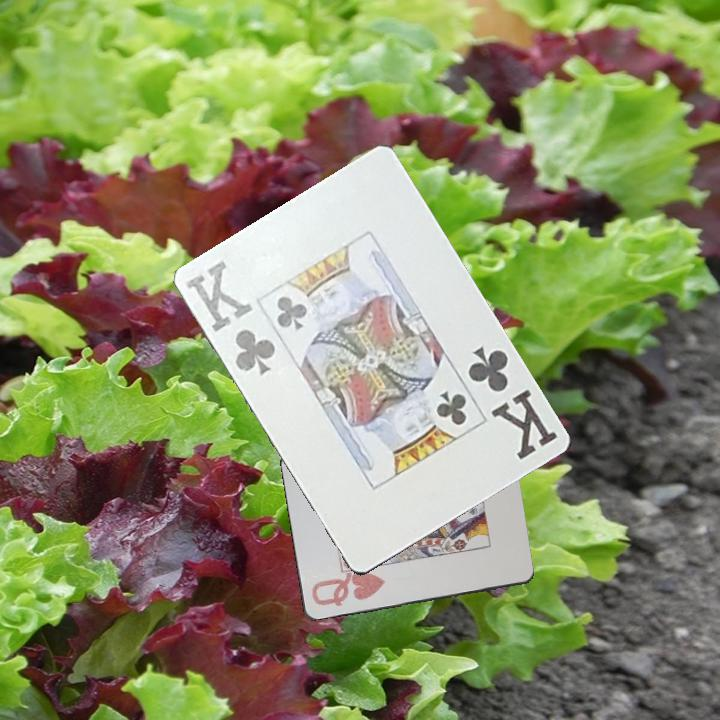Kc: (183, 257, 280, 380), (464, 342, 561, 463)
Qh: (308, 569, 388, 610)
